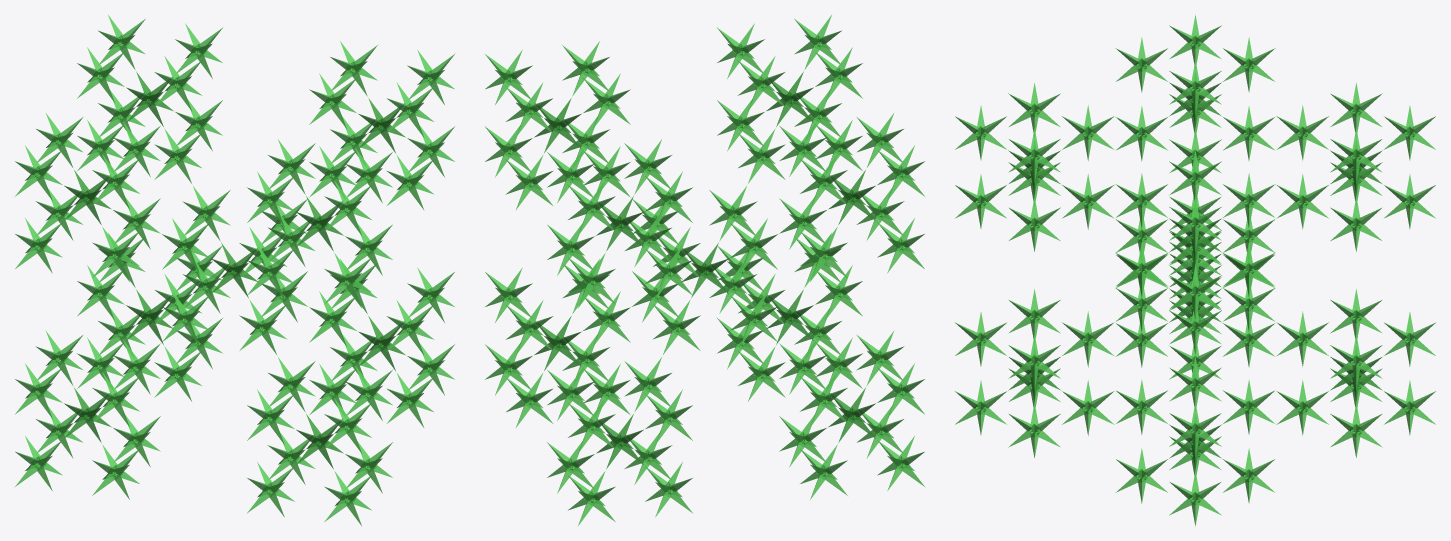
The model's file is fractalgreattriakisoctahedron2.glb.
3 views of the same model, side by side, from view 1: azimuth 30°, elevation 25°; view 2: azimuth 150°, elevation 25°; view 3: azimuth 270°, elevation 25° (orthographic). The views are drawn at different scales.
Bounding box in the file's own units: 10.17 × 7.19 × 10.17.
